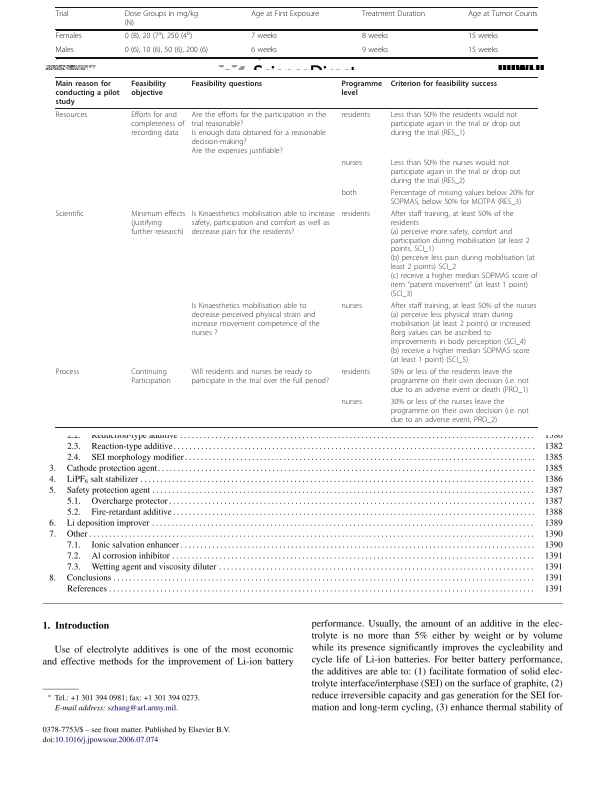borderless: (54, 75, 538, 427), (54, 6, 537, 57)
cell: (390, 209, 538, 299), (390, 301, 537, 365), (190, 110, 327, 155), (190, 301, 320, 338), (190, 209, 336, 236), (390, 367, 530, 395), (390, 397, 530, 425), (390, 110, 521, 138), (390, 158, 521, 185), (190, 367, 330, 386), (390, 188, 535, 206), (55, 79, 120, 106), (130, 110, 185, 138), (130, 209, 186, 236), (124, 10, 199, 28), (390, 79, 498, 88), (124, 46, 209, 56), (124, 30, 193, 42), (130, 367, 172, 386), (340, 79, 383, 97), (130, 79, 167, 97), (190, 79, 263, 88), (467, 10, 538, 19), (250, 10, 320, 19), (361, 10, 426, 19), (55, 110, 88, 120), (467, 32, 499, 42), (467, 46, 499, 56), (340, 110, 371, 120), (340, 367, 371, 377), (250, 32, 278, 42), (361, 32, 389, 42), (250, 46, 278, 56), (361, 46, 389, 56), (54, 209, 85, 218), (340, 209, 371, 218), (55, 32, 82, 42), (54, 367, 80, 377), (340, 301, 363, 311), (340, 397, 363, 407), (54, 46, 75, 56), (340, 158, 363, 167), (340, 188, 358, 197), (55, 10, 69, 19)
